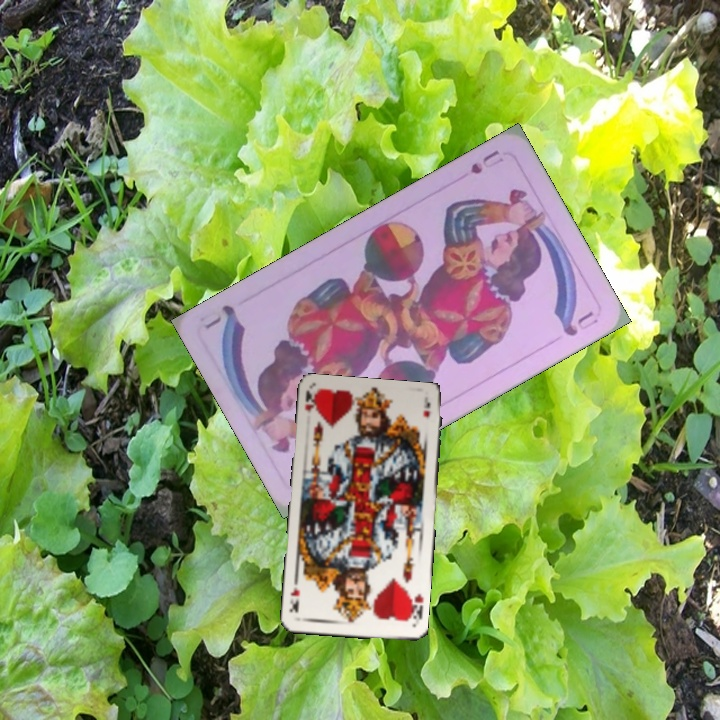HK: (404, 589, 426, 623), (301, 388, 320, 414)
SU: (466, 146, 506, 177)
